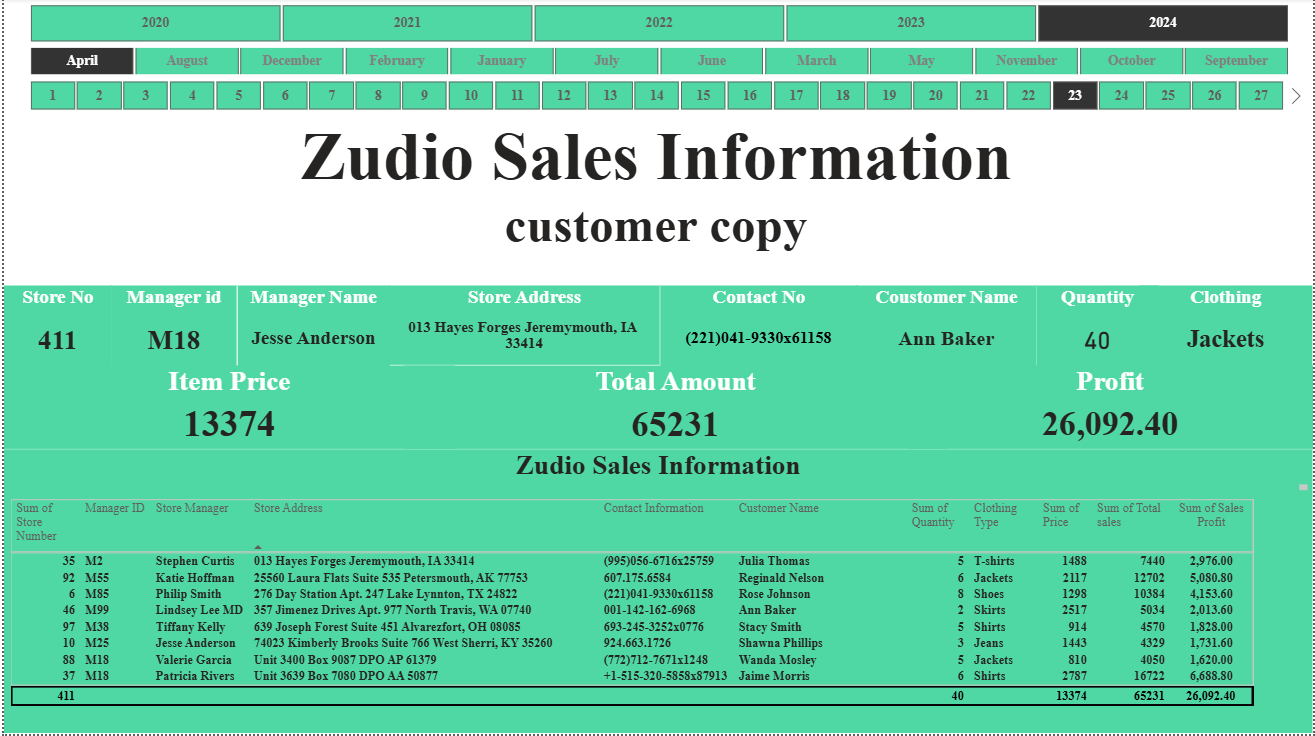

What the dashboard file says about the page in this screenshot:
{"tool":"powerbi","page":{"name":"Store Information","canvas":[1280,720],"ordinal":2},"visuals":[{"type":"slicer","fields":{"Values":["Data.Month"]},"box":[0,38.3,1280,47.5],"z":0},{"type":"slicer","fields":{"Values":["Data.Store Open Date.Variation.Date Hierarchy.Year"]},"box":[0,0,1280,49],"z":1000},{"type":"slicer","fields":{"Values":["Data.Store Open Date.Variation.Date Hierarchy.Day"]},"box":[0,75,1275.4,41.3],"z":2000},{"type":"card","title":"Store No","fields":{"Values":["Sum(Data.Store Number)"]},"box":[0,281.7,105.6,84.2],"z":3000},{"type":"card","title":"Manager id","fields":{"Values":["Min(Data.Manager ID)"]},"box":[105.6,281.7,122.5,84.2],"z":4000},{"type":"card","title":"Manager Name","fields":{"Values":["Min(Data.Store Manager)"]},"box":[228.1,281.7,148.5,84.2],"z":5000},{"type":"card","title":"Contact No","fields":{"Values":["Min(Data.Contact Information)"]},"box":[641.5,281.7,192.9,84.2],"z":6000},{"type":"card","title":"Coustomer Name","fields":{"Values":["Min(Data.Customer Name)"]},"box":[834.4,281.7,176.1,84.2],"z":7000},{"type":"card","title":"Store Address","fields":{"Values":["Min(Data.Store Address)"]},"box":[376.1,281.8,265.2,77.8],"z":8000},{"type":"card","title":"Quantity","fields":{"Values":["Sum(Data.Quantity)"]},"box":[1010.5,281.7,119.4,84.2],"z":9000},{"type":"card","title":"Total Amount","fields":{"Values":["Sum(Data.Total sales)"]},"box":[391.4,359.5,531.6,81.6],"z":10000},{"type":"card","title":"Item Price","fields":{"Values":["Sum(Data.Price)"]},"box":[0,359.5,441.1,81.6],"z":11000},{"type":"card","title":"Clothing","fields":{"Values":["Min(Data.Clothing Type)"]},"box":[1110.4,281.8,169.6,84.1],"z":12000},{"type":"card","title":"Profit","fields":{"Values":["Sum(Data.Sales Profit)"]},"box":[883.5,359.5,396.5,81.6],"z":13000},{"type":"textbox","title":"Zudio Sales Information","box":[0,116.4,1275.4,153.1],"z":14000},{"type":"tableEx","fields":{"Values":["Sum(Data.Store Number)","Data.Manager ID","Data.Store Manager","Data.Store Address","Data.Contact Information","Data.Customer Name","Sum(Data.Quantity)","Data.Clothing Type","Sum(Data.Price)","Sum(Data.Total sales)","Sum(Data.Sales Profit)"]},"box":[0,485.7,1280,233.3],"z":15000},{"type":"textbox","title":"Zudio Sales Information","box":[0,441.1,1280,44.6],"z":16000}]}

Visuals, with their boxes in screenshot pixels (x1, y1, x2, y2), scaled from the page's 1280x720 canvas onto the 1315x736 screenshot:
slicer - Data.Month: (0, 39, 1314, 88)
slicer - Data.Store Open Date.Variation.Date Hierarchy.Year: (0, 0, 1314, 50)
slicer - Data.Store Open Date.Variation.Date Hierarchy.Day: (0, 77, 1310, 119)
"Store No" card: (0, 288, 108, 374)
"Manager id" card: (108, 288, 234, 374)
"Manager Name" card: (234, 288, 387, 374)
"Contact No" card: (659, 288, 857, 374)
"Coustomer Name" card: (857, 288, 1038, 374)
"Store Address" card: (386, 288, 659, 368)
"Quantity" card: (1038, 288, 1161, 374)
"Total Amount" card: (402, 367, 948, 451)
"Item Price" card: (0, 367, 453, 451)
"Clothing" card: (1141, 288, 1314, 374)
"Profit" card: (908, 367, 1314, 451)
"Zudio Sales Information" textbox: (0, 119, 1310, 275)
tableEx - Sum(Data.Store Number) x Data.Manager ID: (0, 496, 1314, 735)
"Zudio Sales Information" textbox: (0, 451, 1314, 496)
